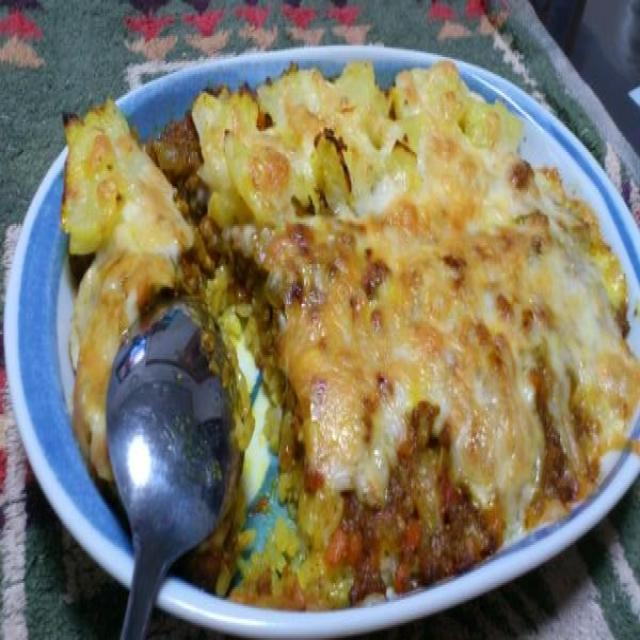米饭主食: (56, 55, 614, 598)
